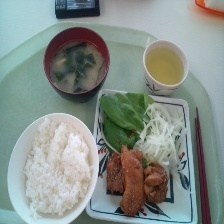dal: (143, 43, 187, 87)
